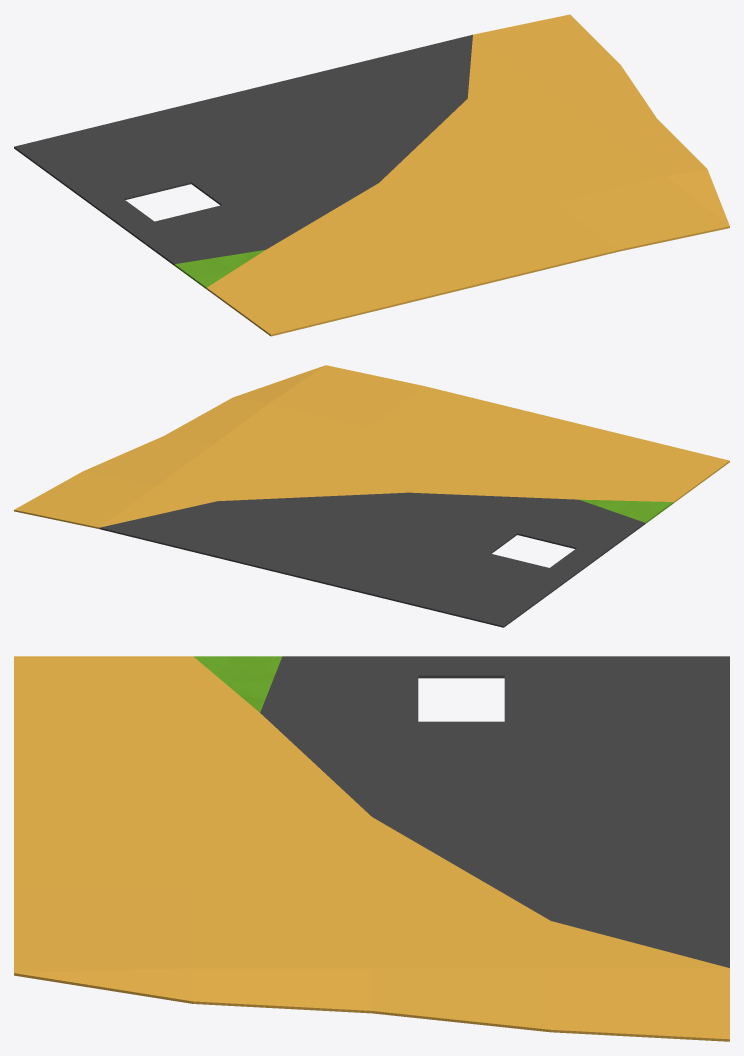
The picture shows the model from 3 angles, top to bottom: view 1: azimuth 30°, elevation 25°; view 2: azimuth 150°, elevation 25°; view 3: azimuth 270°, elevation 25°; orthographic projection. The views are drawn at different scales.
Parts seen in each view (by area): view 1: 01_street_base_plate-COL.041; view 2: 01_street_base_plate-COL.041; view 3: 01_street_base_plate-COL.041.
Part boxes in pixels (box(x1,y1,x2,y2)): 01_street_base_plate-COL.041: box(14, 14, 729, 336); 01_street_base_plate-COL.041: box(14, 365, 729, 627); 01_street_base_plate-COL.041: box(14, 656, 729, 1041).
Size of the model in its own units: 320 by 2.92 by 256.
3 materials, 1 textured.
